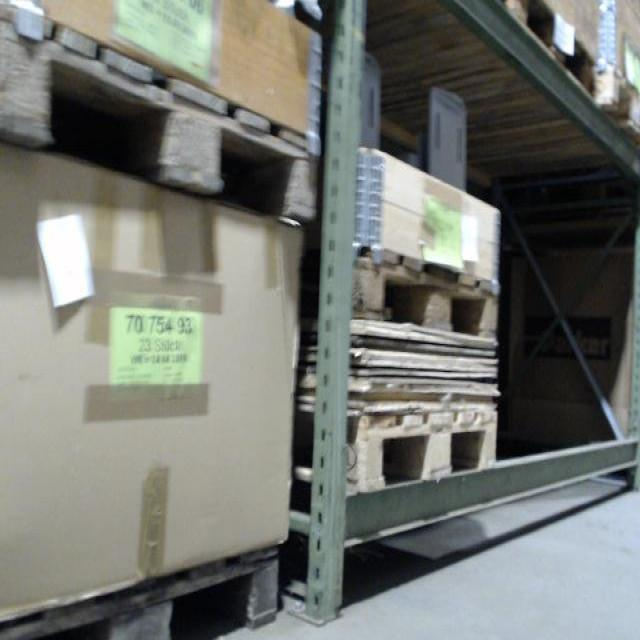pallet: (0, 1, 326, 228), (2, 544, 281, 635), (298, 397, 501, 491), (310, 245, 498, 342), (478, 1, 600, 114), (592, 58, 640, 150)
